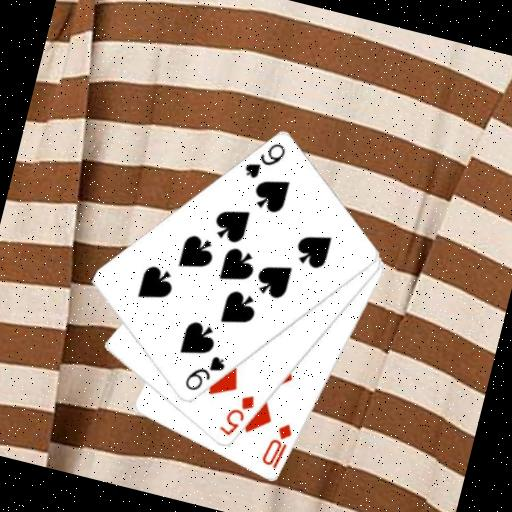10D: (258, 417, 296, 473)
5D: (214, 387, 258, 443)
9S: (240, 134, 290, 187), (180, 347, 229, 399)
